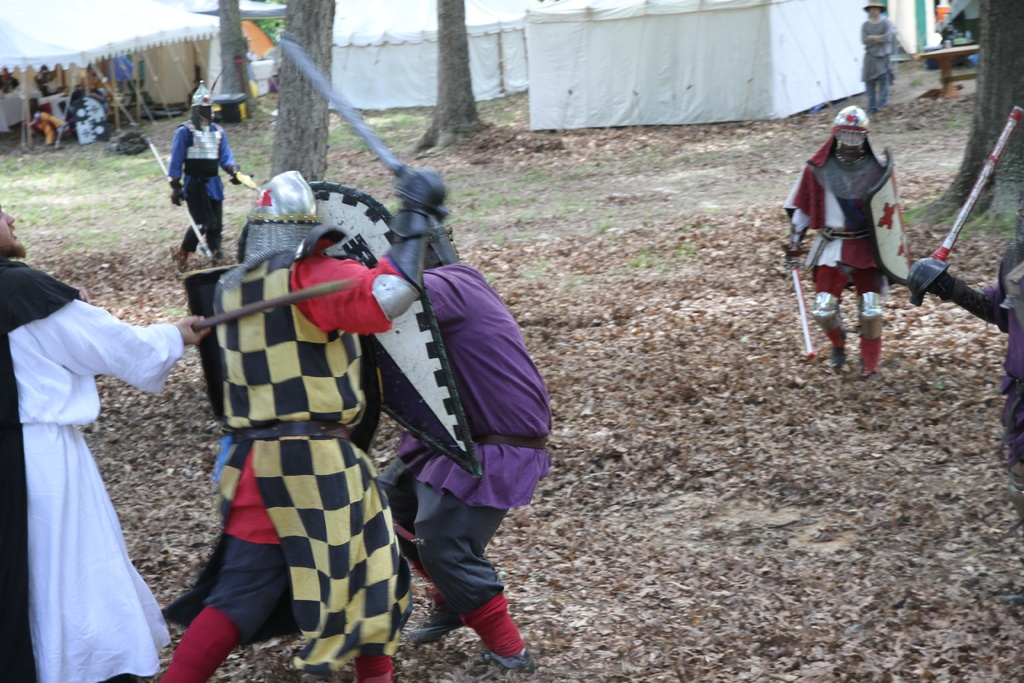Tree: (906, 0, 1023, 246), (412, 0, 506, 156), (270, 0, 337, 192), (218, 0, 259, 114)
